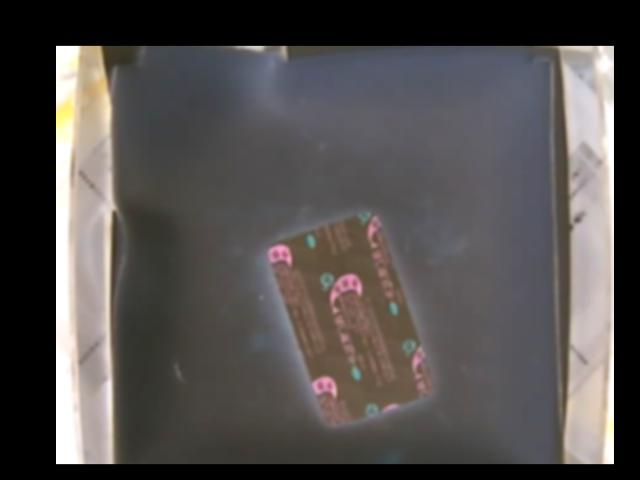Medicine: (273, 211, 428, 426)
